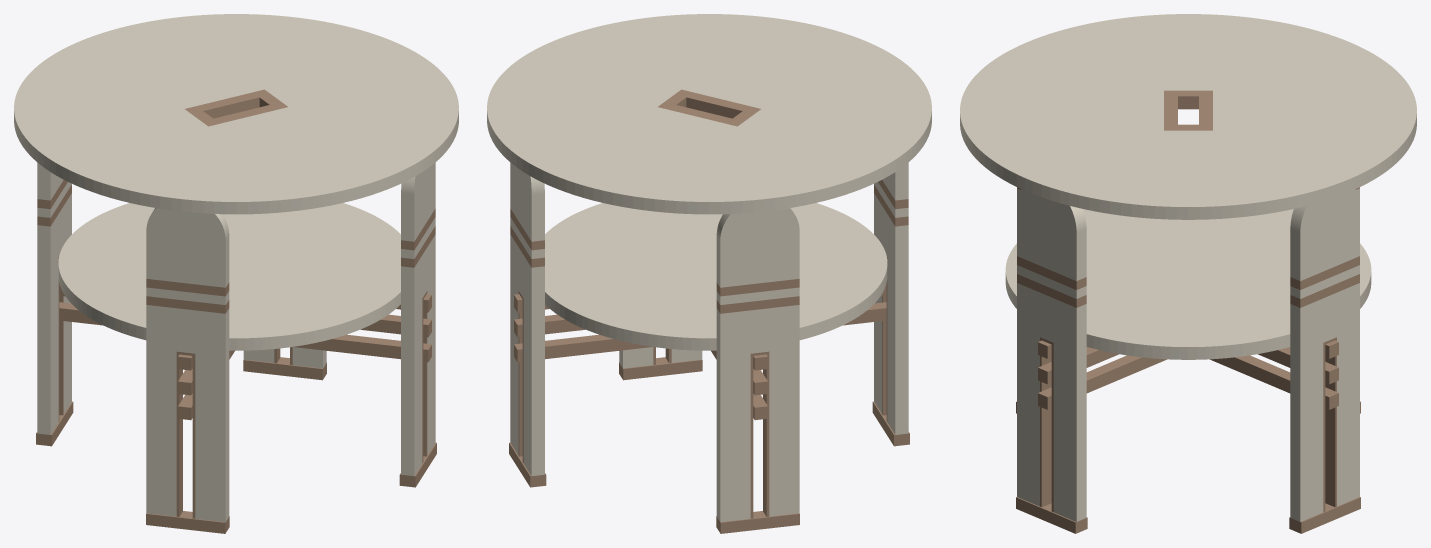
3 views of the same model, side by side, from view 1: azimuth 30°, elevation 25°; view 2: azimuth 150°, elevation 25°; view 3: azimuth 270°, elevation 25° (orthographic). The views are drawn at different scales.
Visible parts, largest first — view 1: P01 Upper circular maple top with grip recess, P06 Lower circular maple shelf — no opening, P21 Arched blade 225 / maple segment 1, P28 Arched blade 315 / maple segment 1, P14 Arched blade 135 / maple segment 1, P23 Arched blade 225 / maple segment 3, P40 X level 3 beam 2, P30 Arched blade 315 / maple segment 3, P27 Foot shoe 225, P13 Foot shoe 45, P02 Grip mitred strip north, P07 Arched blade 45 / maple segment 1 (+10 smaller); view 2: P01 Upper circular maple top with grip recess, P06 Lower circular maple shelf — no opening, P14 Arched blade 135 / maple segment 1, P07 Arched blade 45 / maple segment 1, P21 Arched blade 225 / maple segment 1, P16 Arched blade 135 / maple segment 3, P39 X level 3 beam 1, P09 Arched blade 45 / maple segment 3, P20 Foot shoe 135, P34 Foot shoe 315, P03 Grip mitred strip south, P28 Arched blade 315 / maple segment 1 (+10 smaller); view 3: P01 Upper circular maple top with grip recess, P06 Lower circular maple shelf — no opening, P07 Arched blade 45 / maple segment 1, P28 Arched blade 315 / maple segment 1, P09 Arched blade 45 / maple segment 3, P30 Arched blade 315 / maple segment 3, P39 X level 3 beam 1, P40 X level 3 beam 2, P11 Slot jamb 45 / 1, P31 Slot jamb 315 / -1, P13 Foot shoe 45, P34 Foot shoe 315 (+8 smaller).
Part boxes in pixels (x1,y1,x2,y2): P01 Upper circular maple top with grip recess: [14, 14, 458, 214]; P06 Lower circular maple shelf — no opening: [58, 203, 400, 350]; P21 Arched blade 225 / maple segment 1: [146, 305, 229, 522]; P28 Arched blade 315 / maple segment 1: [401, 234, 435, 475]; P14 Arched blade 135 / maple segment 1: [37, 193, 71, 434]; P23 Arched blade 225 / maple segment 3: [146, 208, 229, 287]; P40 X level 3 beam 2: [59, 302, 431, 362]; P30 Arched blade 315 / maple segment 3: [401, 162, 435, 241]; P27 Foot shoe 225: [146, 511, 229, 533]; P13 Foot shoe 45: [243, 357, 326, 380]; P02 Grip mitred strip north: [185, 89, 263, 118]; P07 Arched blade 45 / maple segment 1: [243, 347, 326, 368]; P01 Upper circular maple top with grip recess: [487, 14, 931, 214]; P06 Lower circular maple shelf — no opening: [545, 203, 887, 350]; P14 Arched blade 135 / maple segment 1: [716, 305, 799, 522]; P07 Arched blade 45 / maple segment 1: [510, 234, 544, 475]; P21 Arched blade 225 / maple segment 1: [874, 193, 908, 434]; P16 Arched blade 135 / maple segment 3: [716, 208, 799, 287]; P39 X level 3 beam 1: [514, 302, 886, 362]; P09 Arched blade 45 / maple segment 3: [510, 162, 544, 241]; P20 Foot shoe 135: [716, 511, 799, 533]; P34 Foot shoe 315: [619, 357, 702, 380]; P03 Grip mitred strip south: [682, 89, 760, 118]; P28 Arched blade 315 / maple segment 1: [619, 347, 702, 368]; P01 Upper circular maple top with grip recess: [960, 14, 1416, 219]; P06 Lower circular maple shelf — no opening: [1005, 209, 1371, 359]; P07 Arched blade 45 / maple segment 1: [1290, 283, 1359, 521]; P28 Arched blade 315 / maple segment 1: [1017, 283, 1086, 521]; P09 Arched blade 45 / maple segment 3: [1290, 189, 1359, 281]; P30 Arched blade 315 / maple segment 3: [1017, 189, 1086, 281]; P39 X level 3 beam 1: [1210, 355, 1338, 409]; P40 X level 3 beam 2: [1038, 355, 1166, 409]; P11 Slot jamb 45 / 1: [1325, 340, 1336, 507]; P31 Slot jamb 315 / -1: [1040, 340, 1051, 507]; P13 Foot shoe 45: [1289, 497, 1360, 533]; P34 Foot shoe 315: [1016, 497, 1087, 533].
Size of the model in its own units: 0.65 by 0.55 by 0.6498.
